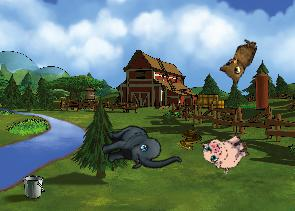elephant: (96, 111, 182, 189)
owl: (216, 33, 258, 86)
pig: (198, 124, 253, 178)
